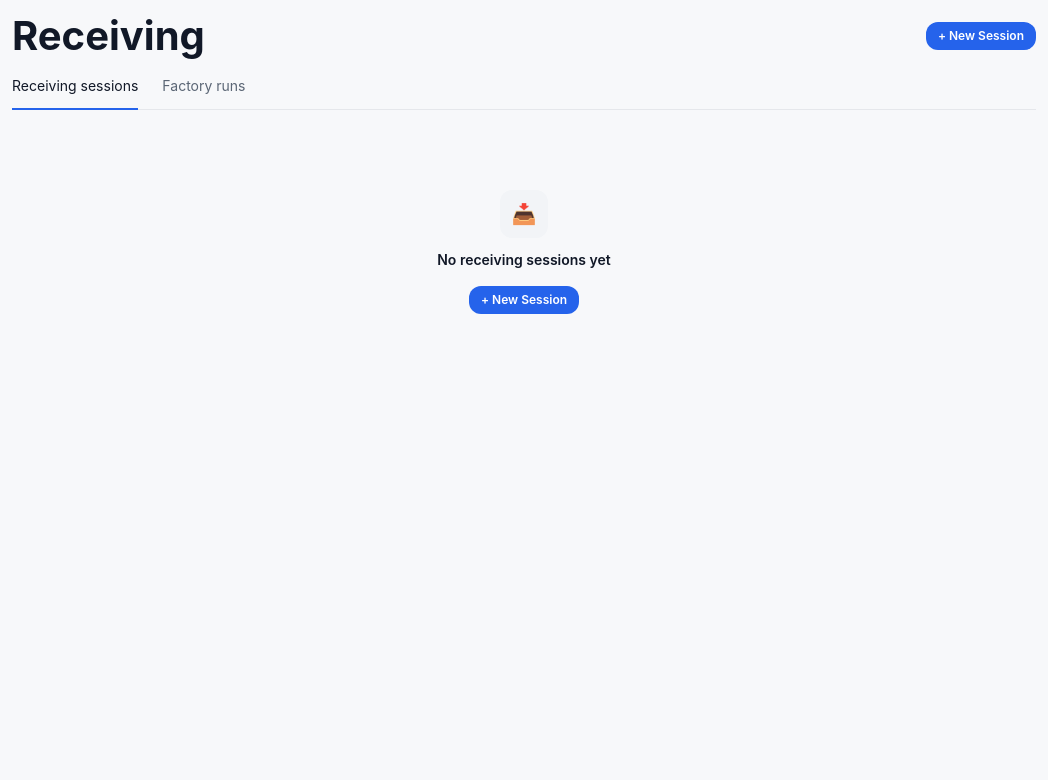
Test: Slice 6c — close run + shortfall report › fc5 — a closed run: no Close run, each reason, closed by
Click the button "Factory runs": (204, 93) [162,76,246,110]
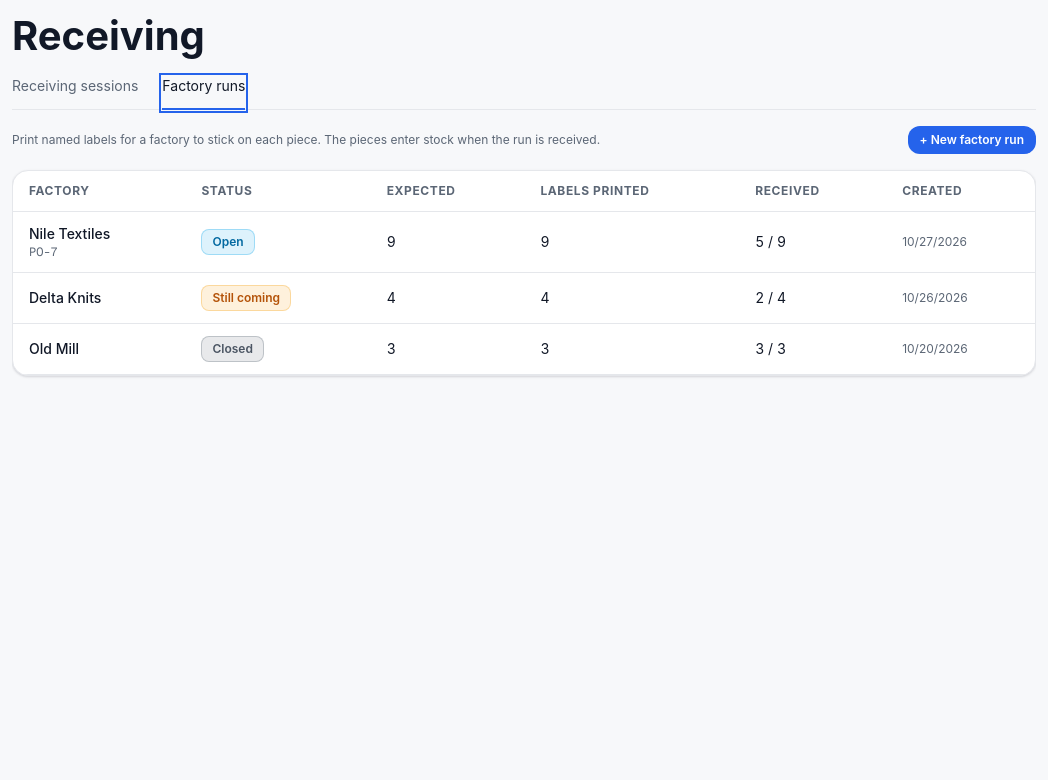
Click the row with test id "run-row-run-1": (524, 242) [13,212,1035,272]
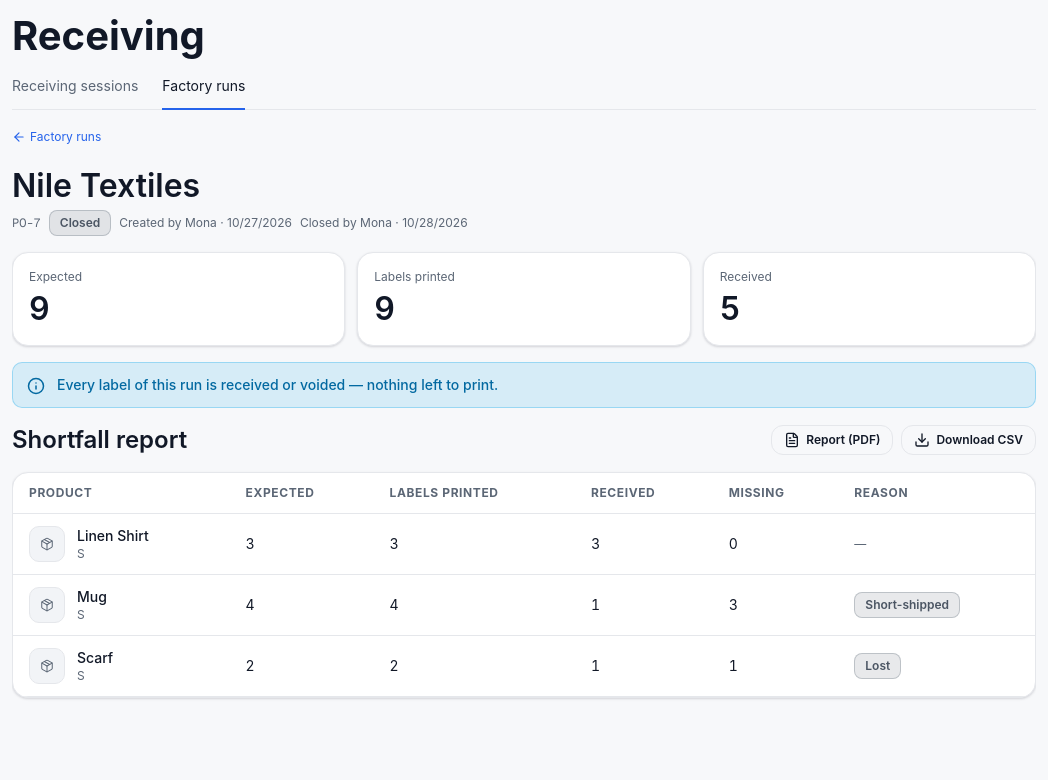
Result: the text with test id "run-closed-by" shows "Closed by Mona" at [300,215,468,230]
Result: the text "Short-shipped" is shown at [854,592,960,618]
Result: the text "Lost" is shown at [854,653,901,679]
